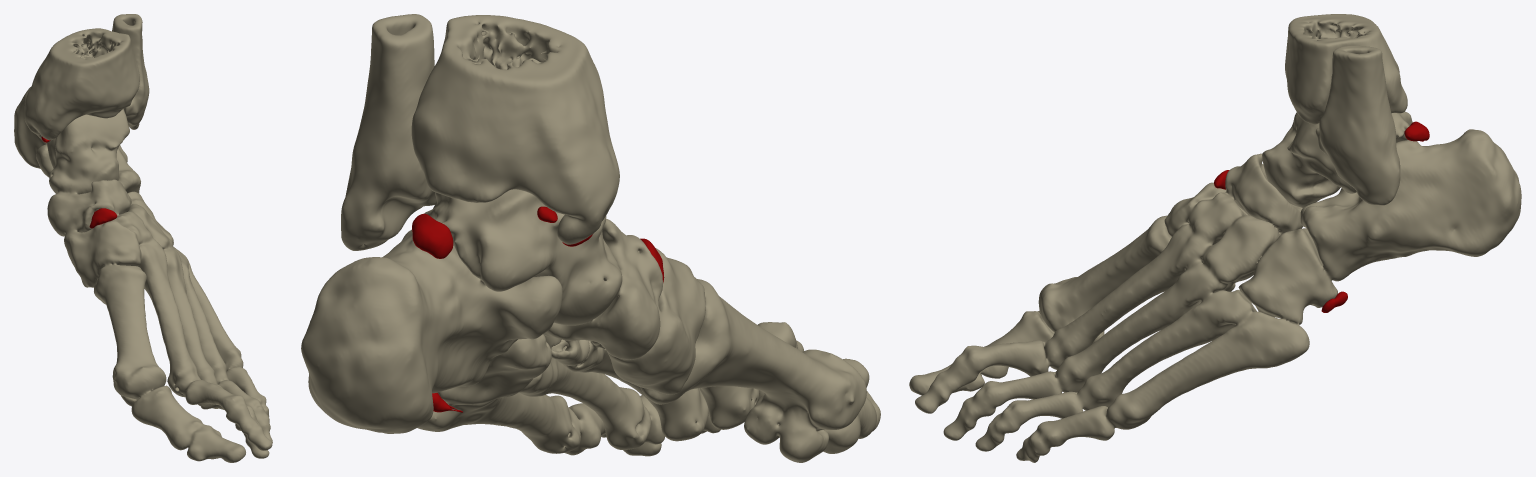
File: Segmentation2_1.glb
3 views of the same model, side by side, from view 1: azimuth 30°, elevation 25°; view 2: azimuth 150°, elevation 25°; view 3: azimuth 270°, elevation 25° (orthographic). The views are drawn at different scales.
Visible parts, largest first — view 1: Segmentation; view 2: Segmentation; view 3: Segmentation.
Boxes of the visible parts, x1,y1,x2,y2 form: Segmentation: [14, 14, 272, 462]; Segmentation: [301, 14, 880, 462]; Segmentation: [909, 14, 1521, 462].
Size of the model in its own units: 89.76 by 183 by 247.
